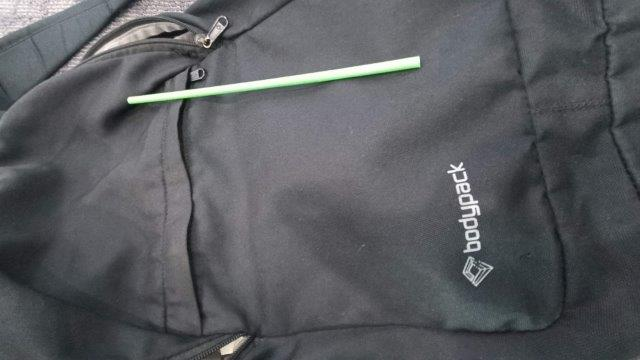sedotan: (129, 57, 420, 103)
